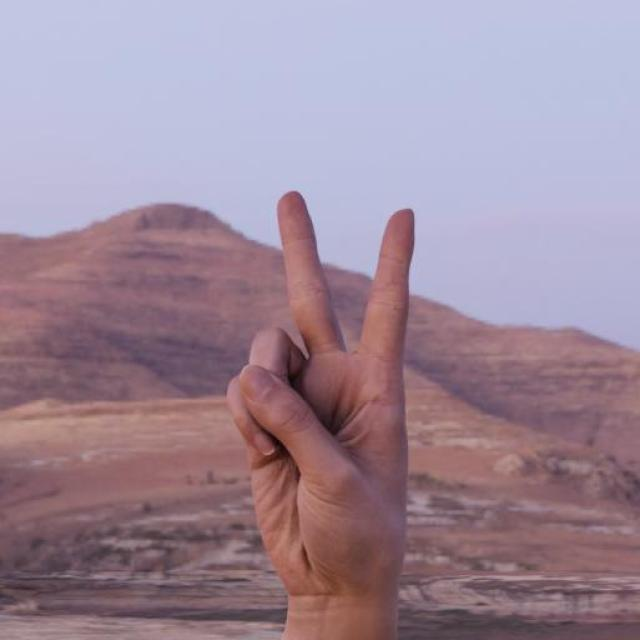V: (222, 185, 418, 607)
